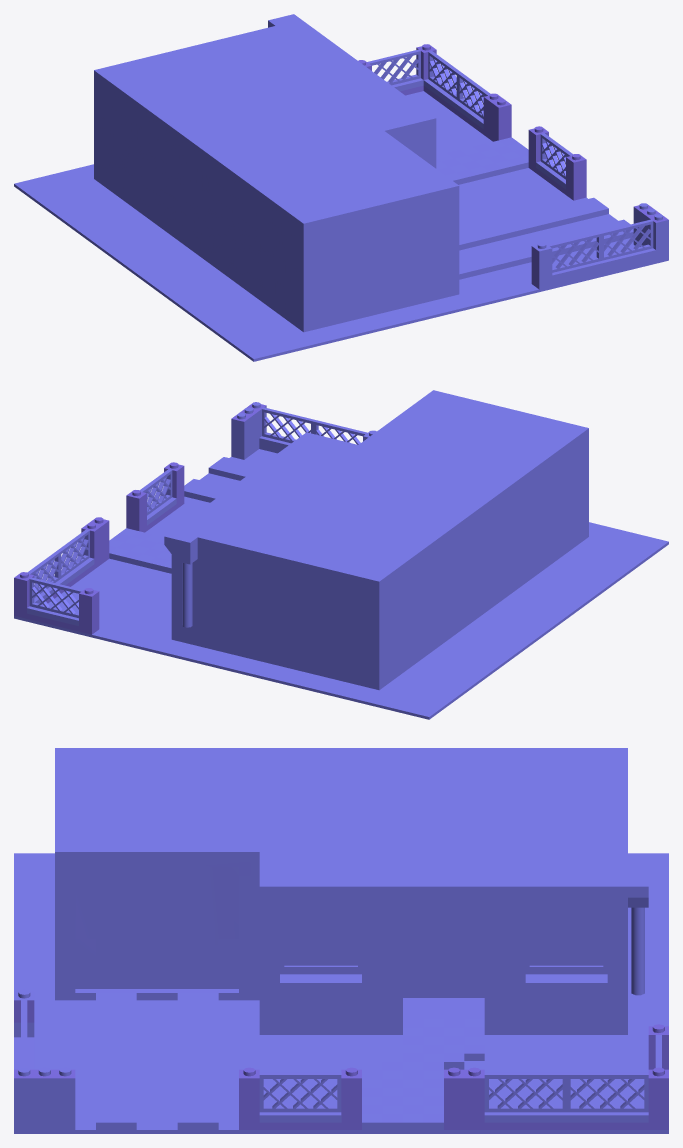
File: House_4956.fbx
3 renders of one model, top to bottom at view 1: azimuth 30°, elevation 25°; view 2: azimuth 150°, elevation 25°; view 3: azimuth 270°, elevation 25°, orthographic. The views are drawn at different scales.
Parts seen in each view (by area): view 1: House_4956_LOD0; view 2: House_4956_LOD0; view 3: House_4956_LOD0.
Part boxes in pixels (x1,y1,x2,y2): House_4956_LOD0: [14, 14, 668, 361]; House_4956_LOD0: [14, 390, 668, 719]; House_4956_LOD0: [14, 748, 668, 1133].
Size of the model in its own units: 640 by 164 by 640.
